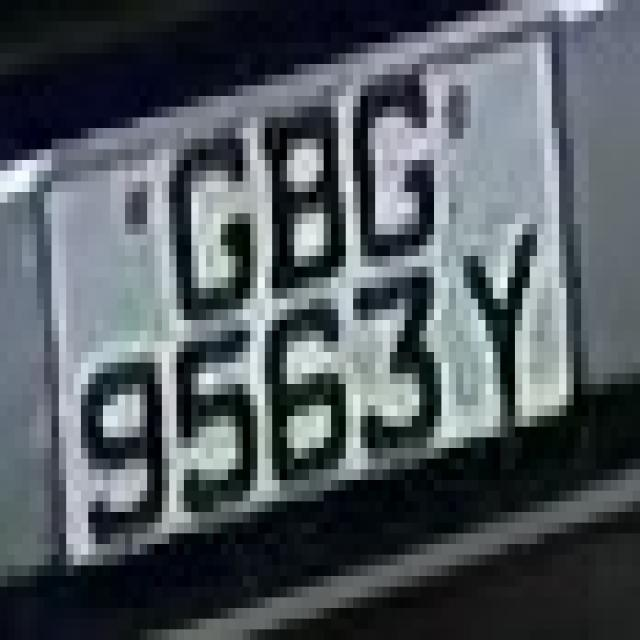3: (331, 245, 463, 491)
5: (154, 299, 258, 544)
6: (265, 267, 360, 512)
9: (59, 320, 176, 565)
B: (243, 64, 360, 320)
G: (147, 117, 265, 363), (331, 64, 449, 267)
Y: (441, 192, 552, 448)
